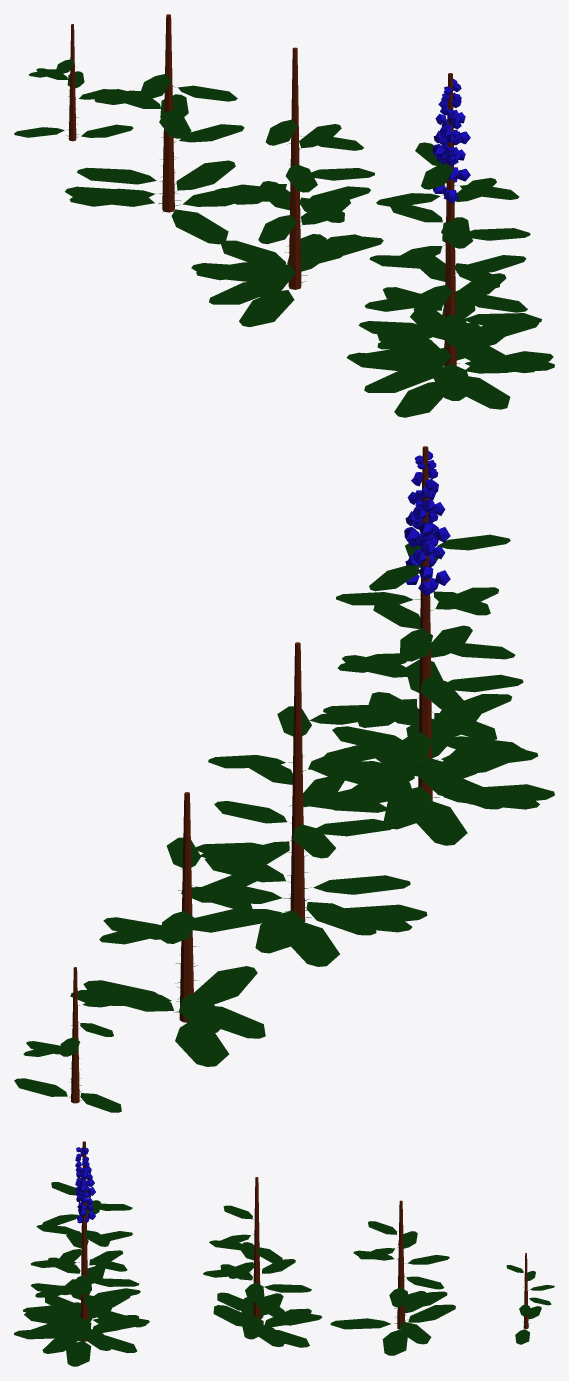
Rendered from salvia_plant_harvestable.obj.
The picture shows the model from 3 angles, top to bottom: view 1: azimuth 30°, elevation 25°; view 2: azimuth 150°, elevation 25°; view 3: azimuth 270°, elevation 25°; orthographic projection. The views are drawn at different scales.
Visible parts, largest first — view 1: Plane.013, Plane.001, Plane.002, Circle.001, Plane.003, Circle.002, Circle, Sphere, Circle.003, Sphere.002, Sphere.001, Sphere.003; view 2: Plane.013, Plane.001, Plane.002, Circle.001, Plane.003, Circle.002, Circle, Sphere, Sphere.001, Sphere.002, Sphere.003, Circle.003; view 3: Plane.013, Plane.001, Plane.002, Plane.003, Circle.001, Circle, Circle.002, Sphere.001, Sphere.003, Sphere.
Boxes of the visible parts, box(x1,y1,x2,y2) form: Plane.013: box(346, 142, 554, 417); Plane.001: box(191, 117, 383, 327); Plane.002: box(65, 71, 259, 244); Circle.001: box(288, 47, 301, 289); Plane.003: box(14, 58, 133, 140); Circle.002: box(162, 14, 174, 212); Circle: box(444, 73, 456, 365); Sphere: box(432, 78, 461, 166); Circle.003: box(68, 24, 76, 141); Sphere.002: box(433, 123, 461, 203); Sphere.001: box(440, 83, 470, 162); Sphere.003: box(441, 122, 470, 199); Plane.013: box(310, 534, 554, 845); Plane.001: box(181, 706, 427, 966); Plane.002: box(70, 837, 272, 1066); Circle.001: box(290, 642, 305, 921); Plane.003: box(14, 998, 125, 1112); Circle.002: box(179, 792, 193, 1022); Circle: box(418, 446, 432, 800); Sphere: box(413, 455, 450, 546); Sphere.001: box(404, 451, 438, 548); Sphere.002: box(413, 500, 450, 589); Sphere.003: box(405, 499, 438, 595); Circle.003: box(71, 967, 79, 1103); Plane.013: box(14, 1182, 149, 1366); Plane.001: box(203, 1205, 322, 1347); Plane.002: box(330, 1221, 455, 1355); Plane.003: box(506, 1265, 554, 1344); Circle.001: box(253, 1177, 260, 1318); Circle: box(80, 1141, 88, 1341); Circle.002: box(397, 1200, 405, 1329); Sphere.001: box(75, 1147, 95, 1197); Sphere.003: box(75, 1172, 95, 1222); Sphere: box(75, 1147, 94, 1198).
Bounding box in the file's own units: 38.06 × 51.33 × 127.
